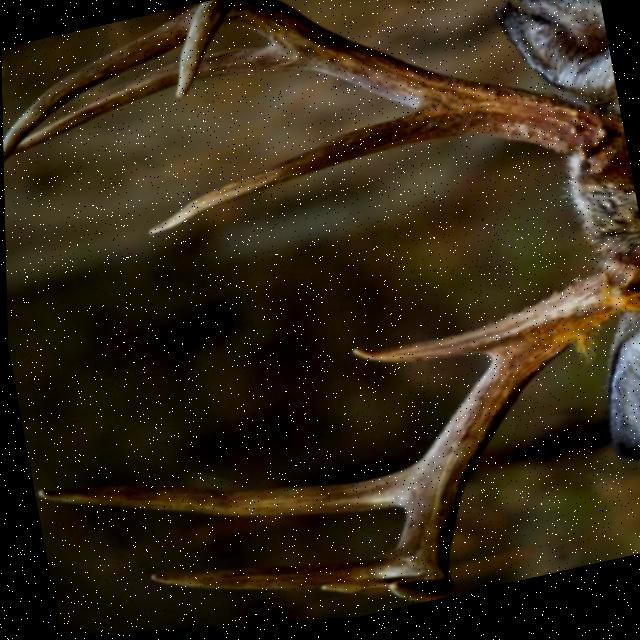L-F: (174, 0, 582, 158)
L-G1: (147, 116, 466, 236)
R-F: (385, 281, 632, 606)
R-G1: (348, 320, 515, 369)
R-G2: (34, 473, 407, 521)
R-G3: (147, 553, 400, 592)
